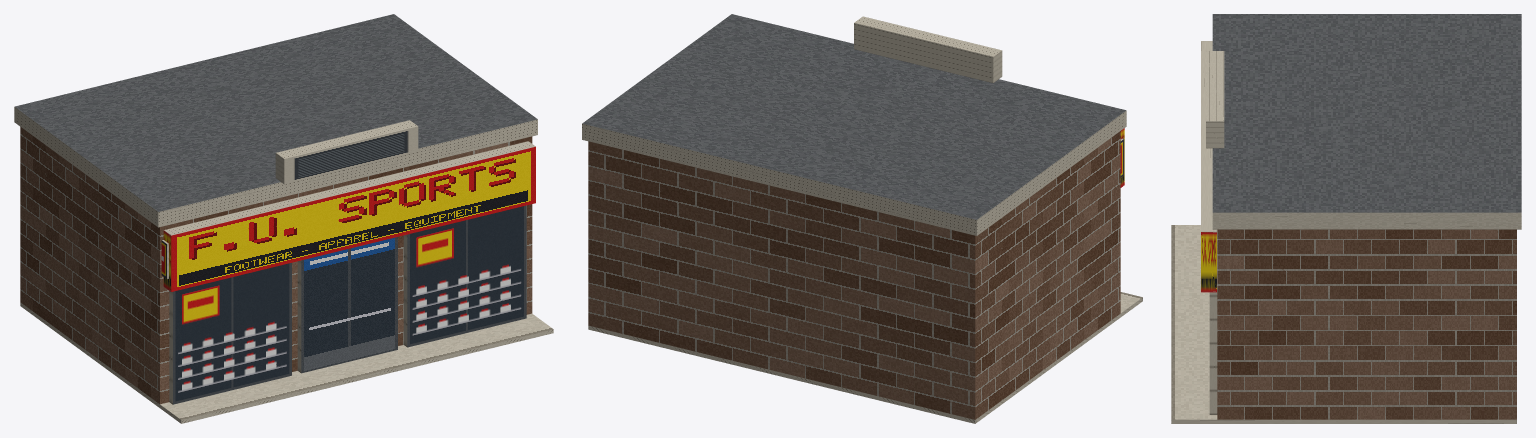
File: building_fu_sports.glb
The picture shows the model from 3 angles, left to right: view 1: azimuth 30°, elevation 25°; view 2: azimuth 150°, elevation 25°; view 3: azimuth 270°, elevation 25°; orthographic projection. The views are drawn at different scales.
Parts seen in each view (by area): view 1: Building_FU_Sports; view 2: Building_FU_Sports; view 3: Building_FU_Sports.
Boxes of the visible parts, x1,y1,x2,y2 form: Building_FU_Sports: (14, 14, 553, 423); Building_FU_Sports: (582, 14, 1142, 423); Building_FU_Sports: (1171, 14, 1521, 423).
Size of the model in its own units: 10.2 by 5.75 by 7.6.
Materials: 1 (1 with a texture image).
